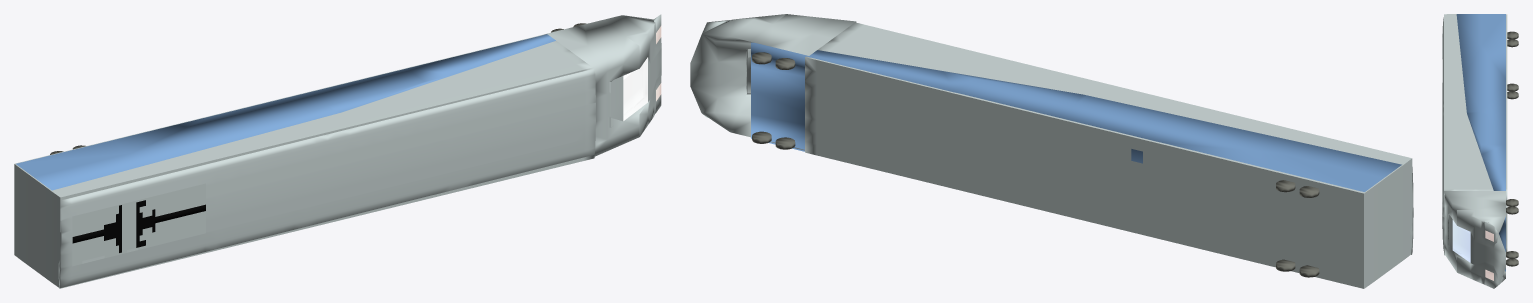
The model's file is asset4.glb.
3 views of the same model, side by side, from view 1: azimuth 30°, elevation 25°; view 2: azimuth 150°, elevation 25°; view 3: azimuth 270°, elevation 25° (orthographic). The views are drawn at different scales.
Parts seen in each view (by area): view 1: Cylinder2, Cube1_copy12, Cylinder13_copy14, Cylinder13, Cube13_copy14, Cube13_copy16; view 2: Cube1_copy12, Cylinder13_copy14, Cylinder13; view 3: Cylinder13_copy14, Cylinder13, Cube1_copy12, Cylinder2, Cylinder4_copy7, Cylinder4_copy6, Cylinder4_copy11, Cylinder4_copy10, Cylinder4_copy5, Cylinder4_copy8, Cylinder4, Cylinder4_copy9.
Part boxes in pixels (box(x1,y1,x2,y2)): Cylinder2: box(58, 68, 595, 288); Cube1_copy12: box(14, 34, 594, 288); Cylinder13_copy14: box(16, 34, 555, 190); Cylinder13: box(547, 14, 661, 156); Cube13_copy14: box(136, 200, 155, 247); Cube13_copy16: box(104, 205, 121, 252); Cube1_copy12: box(805, 22, 1412, 288); Cylinder13_copy14: box(751, 42, 1401, 191); Cylinder13: box(690, 14, 856, 150); Cylinder13_copy14: box(1456, 14, 1505, 271); Cylinder13: box(1444, 191, 1505, 288); Cube1_copy12: box(1444, 14, 1507, 255); Cylinder2: box(1442, 17, 1444, 253); Cylinder4_copy7: box(1506, 206, 1518, 214); Cylinder4_copy6: box(1506, 258, 1518, 266); Cylinder4_copy11: box(1506, 199, 1518, 206); Cylinder4_copy10: box(1506, 251, 1518, 258); Cylinder4_copy5: box(1507, 31, 1518, 39); Cylinder4_copy8: box(1507, 91, 1518, 99); Cylinder4: box(1507, 83, 1518, 91); Cylinder4_copy9: box(1507, 39, 1518, 47).
Size of the model in its own units: 0.947 by 0.1306 by 0.1417.
